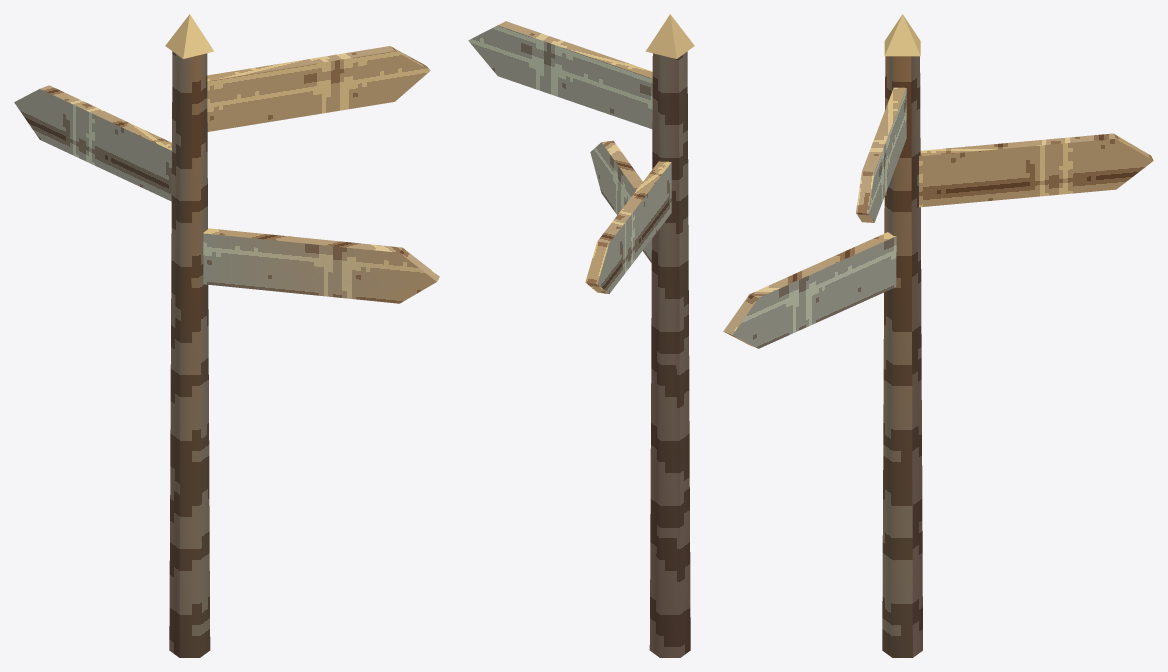
The model's file is wprop.signpost.glb.
The picture shows the model from 3 angles, left to right: view 1: azimuth 30°, elevation 25°; view 2: azimuth 150°, elevation 25°; view 3: azimuth 270°, elevation 25°; orthographic projection.
Parts seen in each view (by area): view 1: kit_boards, kit_post, kit_cap; view 2: kit_post, kit_boards, kit_cap; view 3: kit_boards, kit_post, kit_cap.
Part boxes in pixels (x1=…): kit_boards: x1=14, y1=46, x2=439, y2=303; kit_post: x1=169, y1=51, x2=210, y2=657; kit_cap: x1=165, y1=14, x2=214, y2=58; kit_post: x1=649, y1=51, x2=690, y2=657; kit_boards: x1=468, y1=21, x2=671, y2=293; kit_cap: x1=645, y1=14, x2=694, y2=58; kit_boards: x1=723, y1=87, x2=1153, y2=348; kit_post: x1=882, y1=56, x2=922, y2=657; kit_cap: x1=884, y1=14, x2=920, y2=56.
Bounding box in the file's own units: 1.22 × 2.75 × 1.69.
3 materials, 3 textured.
